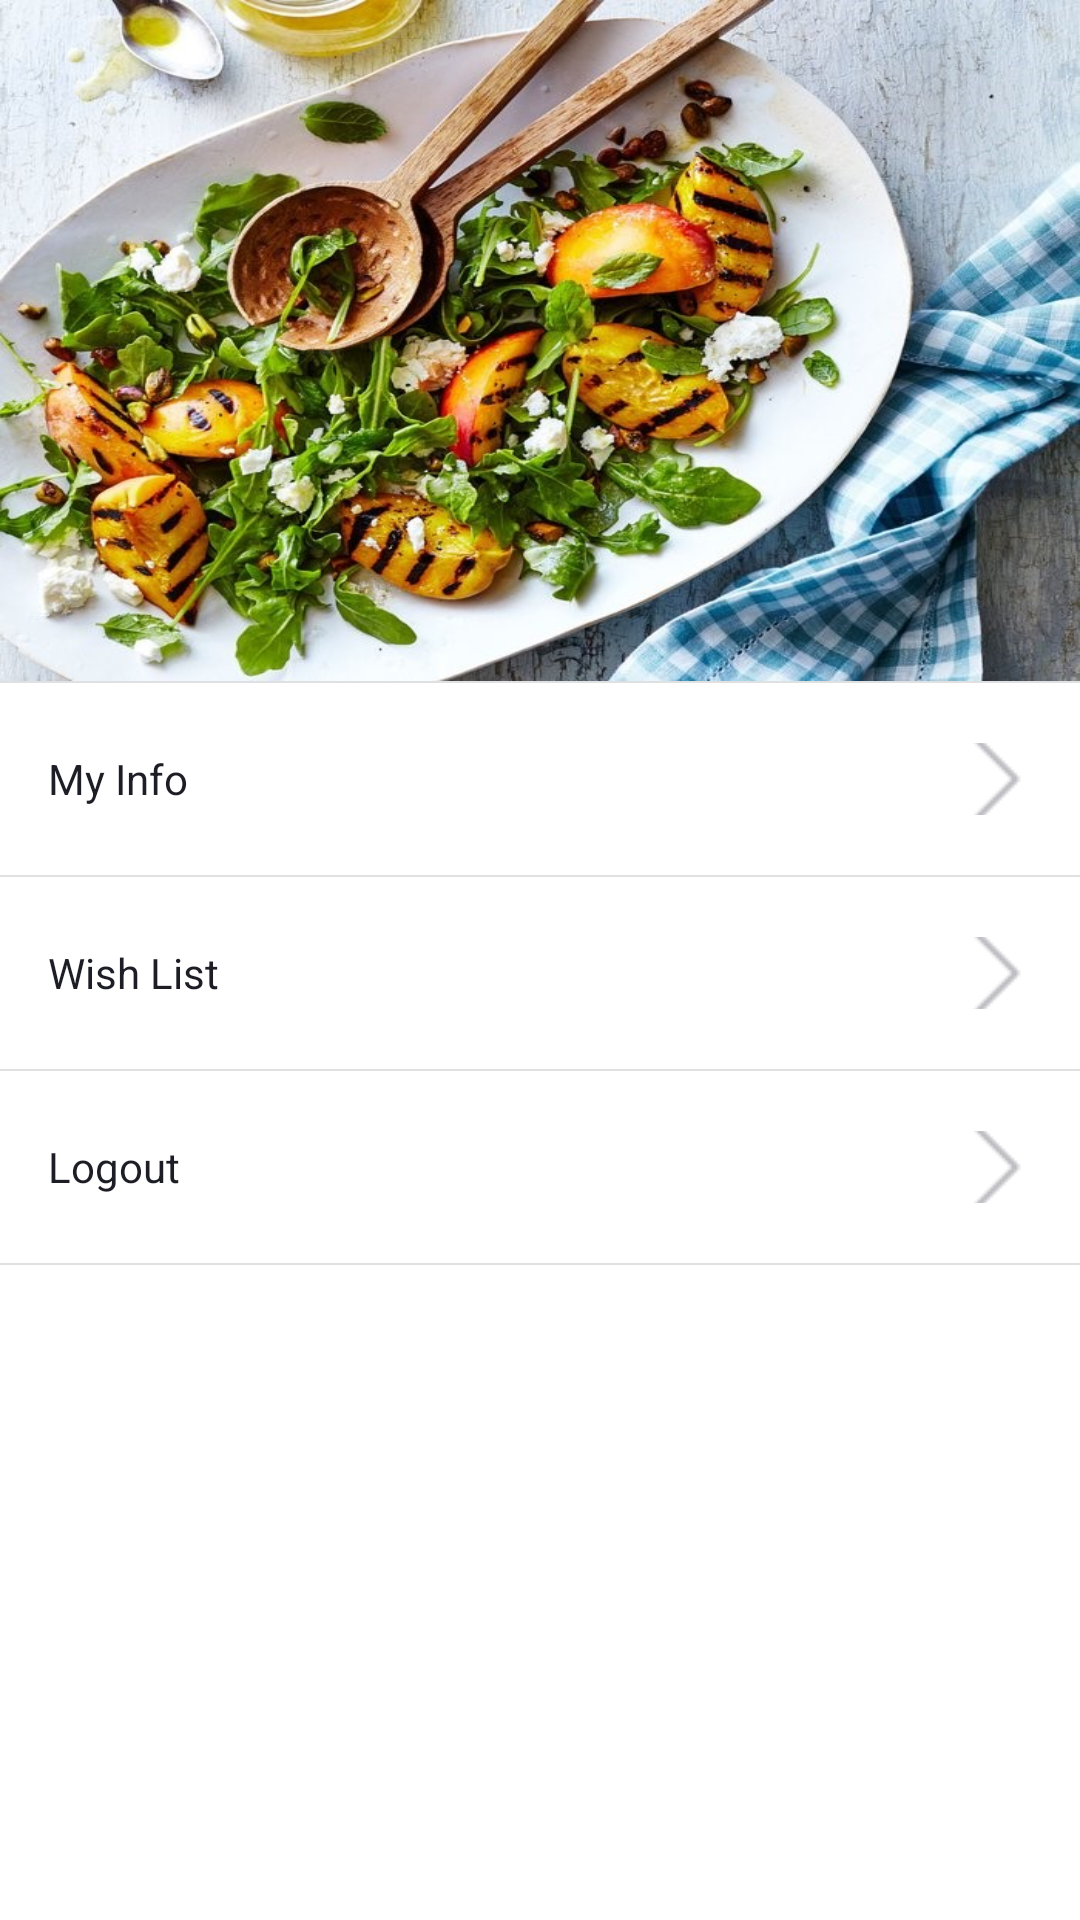

Icon bounding boxes for this 1080x1920 phone screenshot, format (x1, y1, x2, y2):
right arrow: (975, 743, 1019, 815), (976, 937, 1019, 1009), (975, 1131, 1019, 1203)
